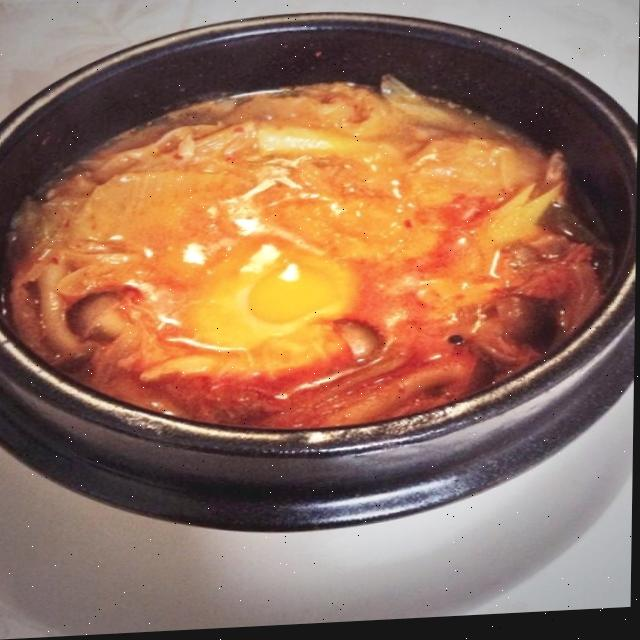汤锅炖物: (22, 26, 596, 552)
